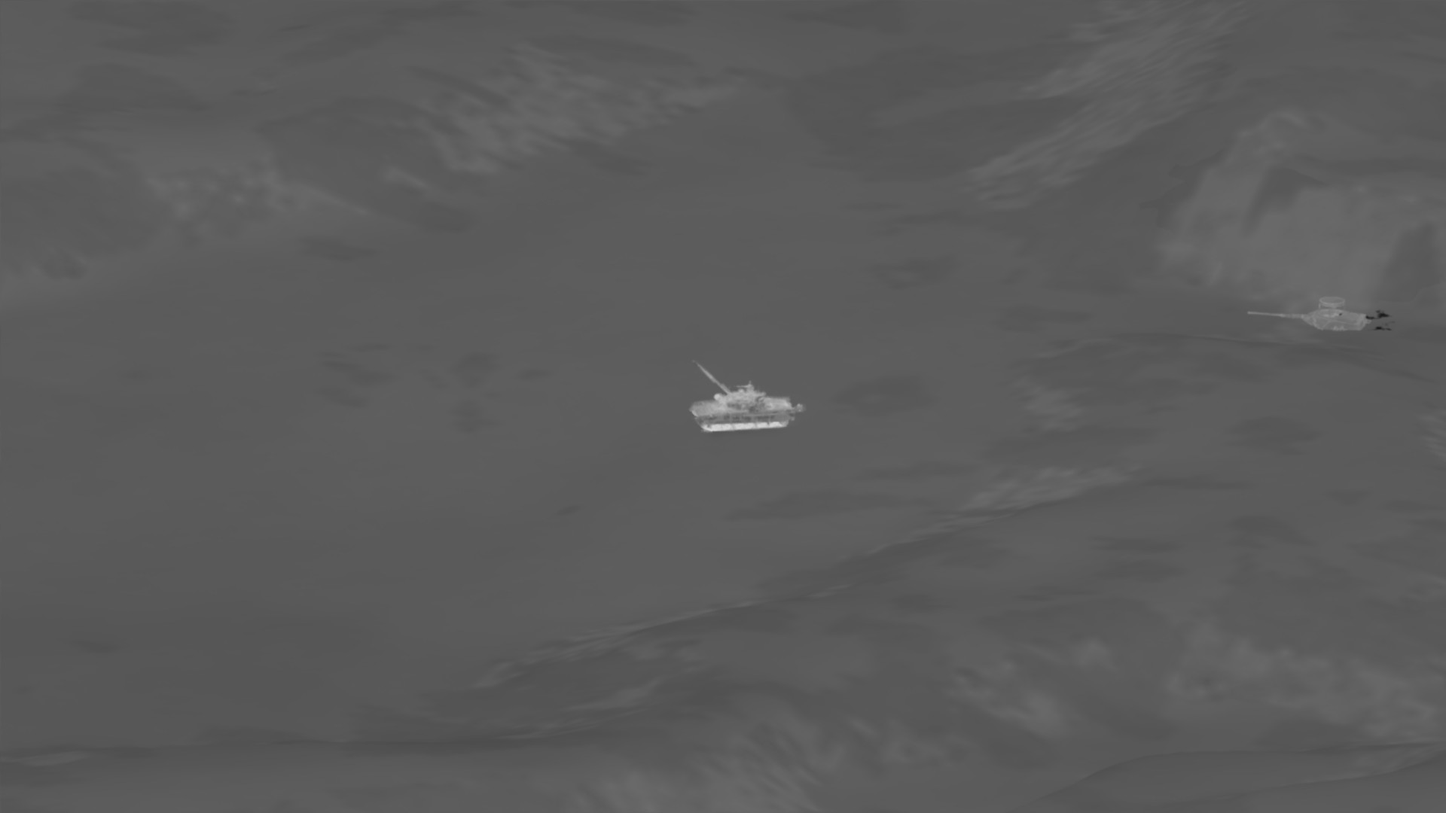t-80u: (688, 360, 796, 433)
